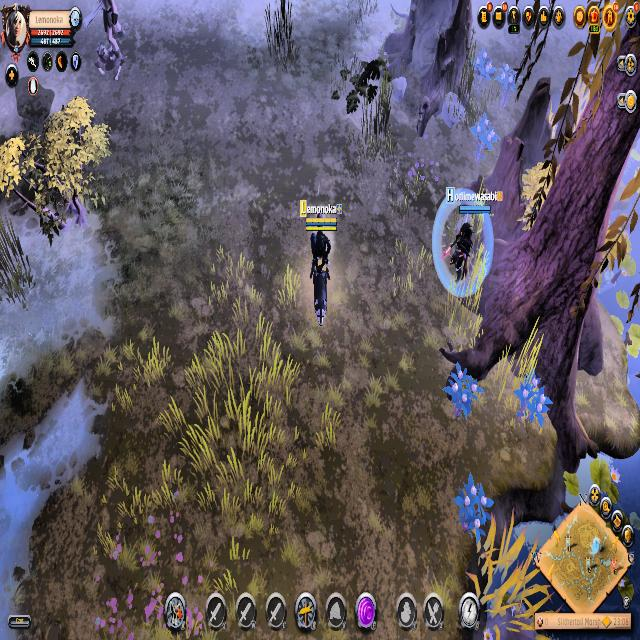fiber tier 4: (443, 360, 487, 428), (512, 366, 554, 434), (470, 111, 500, 169), (499, 59, 519, 114)
